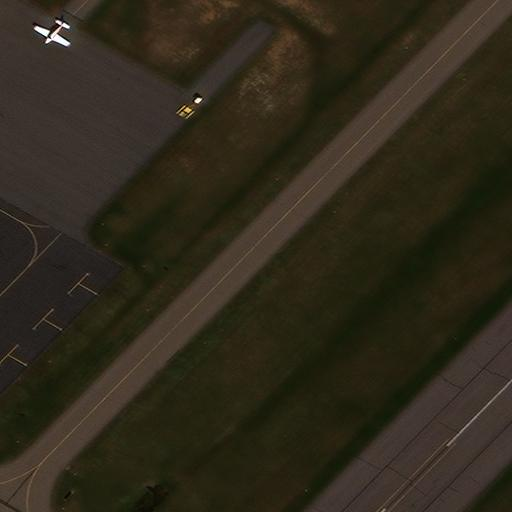Small Civil Transport: (33, 21, 67, 47)
